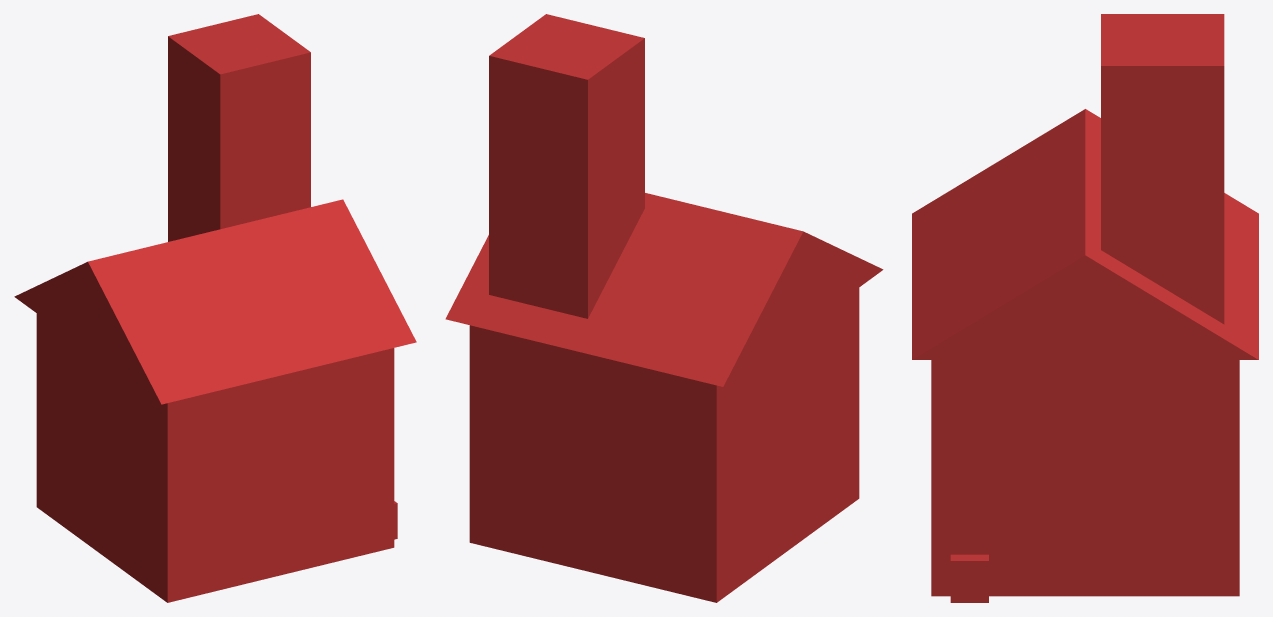
File: blacksmith.obj
The picture shows the model from 3 angles, left to right: view 1: azimuth 30°, elevation 25°; view 2: azimuth 150°, elevation 25°; view 3: azimuth 270°, elevation 25°; orthographic projection. The views are drawn at different scales.
Size of the model in its own units: 0.45 by 0.75 by 0.45.
